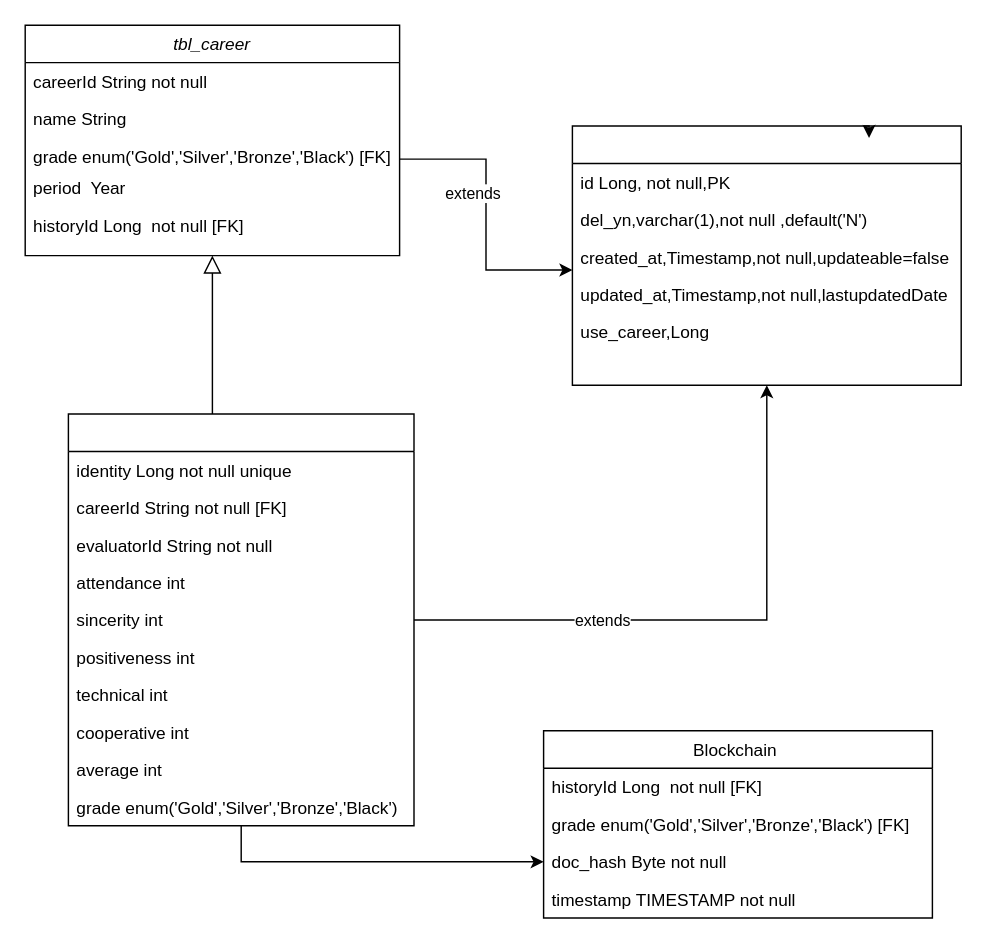
The diagram is 986 pixels wide and 948 high, and some of its shapes have lost their labels. Each missing label, with the box of its shape:
BaseEntity: (571, 125, 961, 385)
tbl_score: (67, 413, 414, 826)
